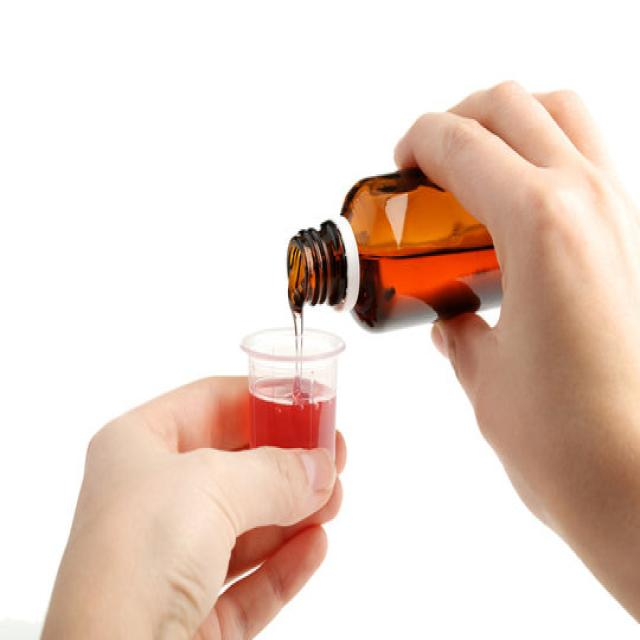B3: (264, 121, 625, 368)
